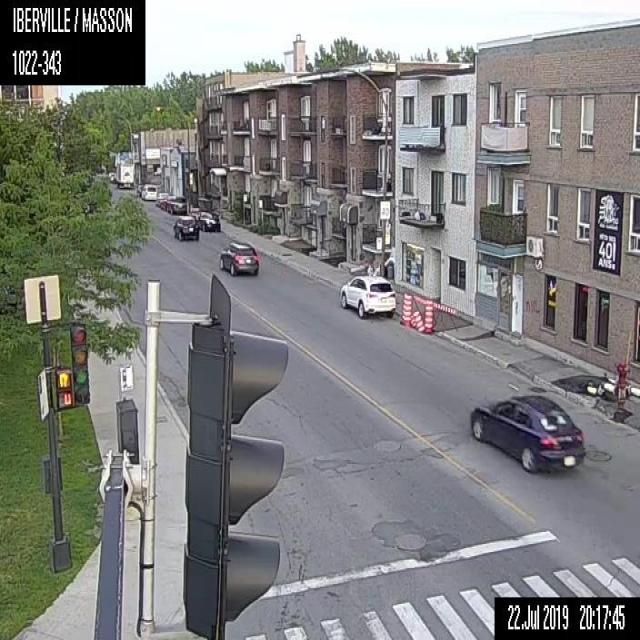construction: (550, 361, 630, 416), (412, 292, 458, 330), (422, 297, 434, 337), (399, 291, 412, 325), (411, 308, 423, 335)
vehicle: (468, 392, 583, 473), (338, 272, 396, 320), (218, 238, 260, 278), (172, 214, 199, 242), (115, 160, 134, 189), (196, 210, 221, 231), (166, 194, 186, 214), (140, 183, 157, 201), (155, 192, 168, 206)
